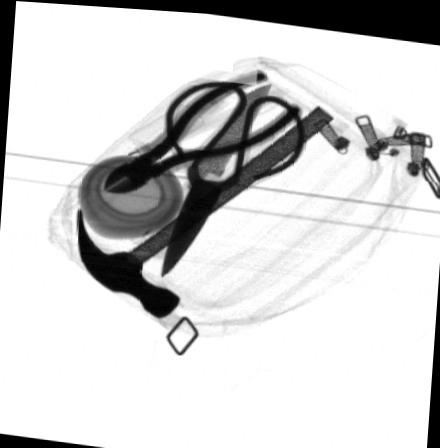Hammer: (76, 99, 335, 315)
Knife: (183, 77, 274, 182)
Pliers: (102, 64, 303, 192)
Scissors: (158, 75, 306, 277)
